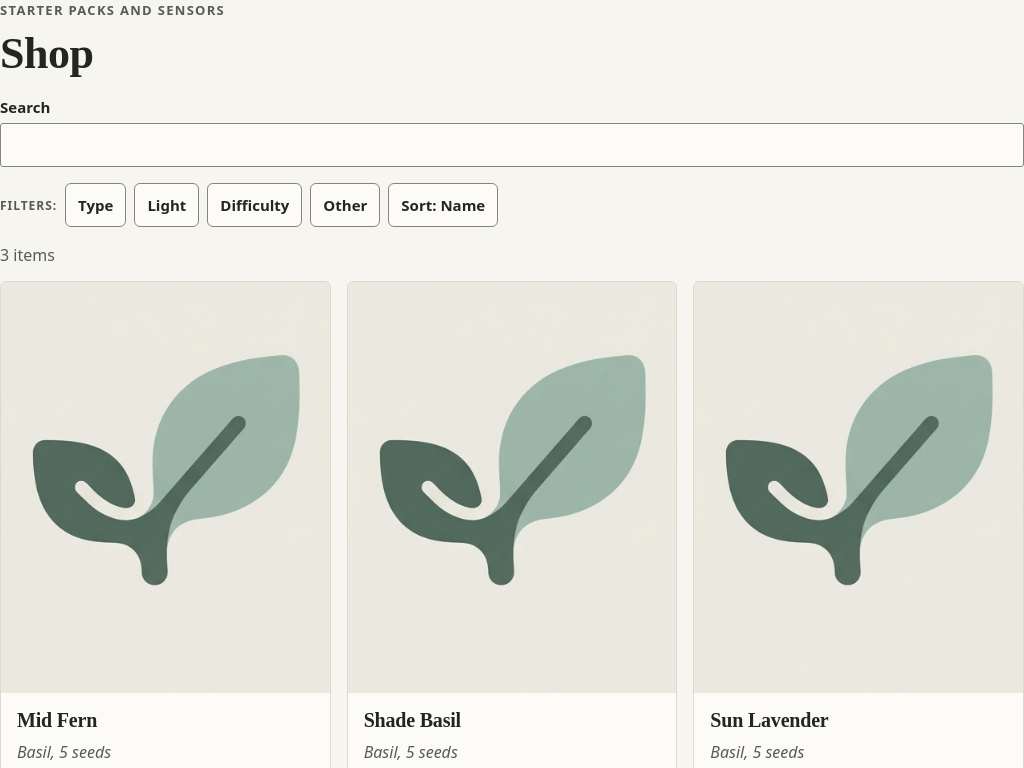
Test: CatalogPage › groups the needs into light, difficulty and other, and lets any ticked level through
Expected: the heading "Shade Basil" is shown, [364,709,461,731]
Expected: the button "Type" is shown, [65,183,126,227]
Click the button "Light": {"x": 167, "y": 205} [134,183,199,227]
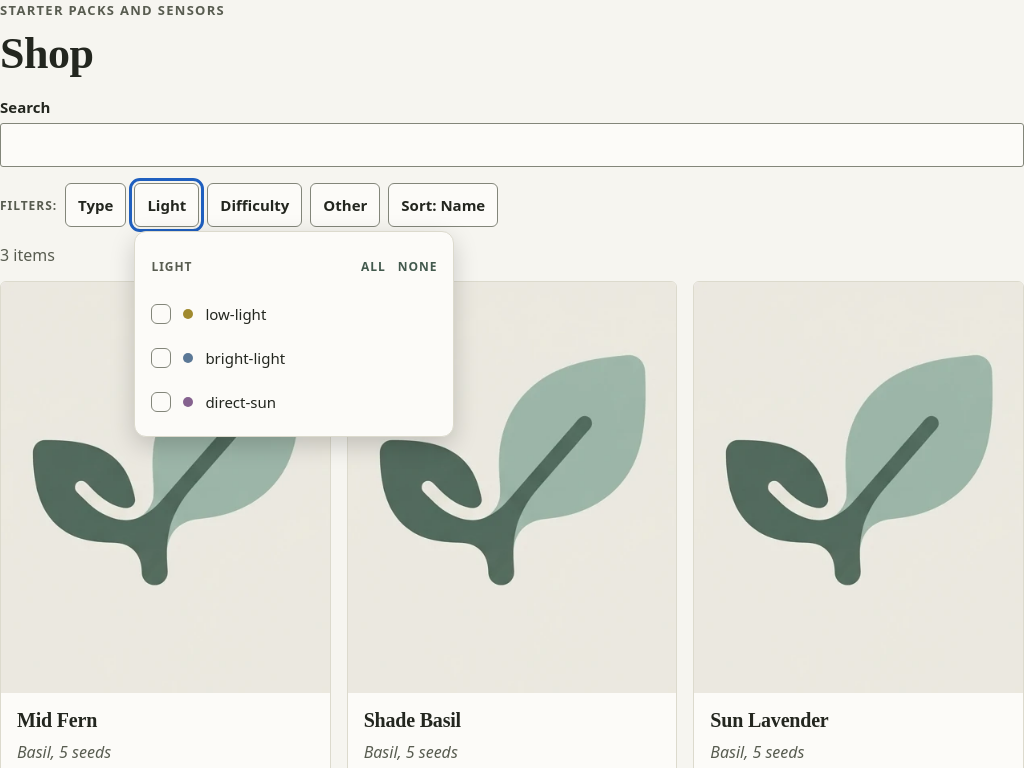
Click the checkbox labelled "low-light": {"x": 209, "y": 314} [151,304,266,324]
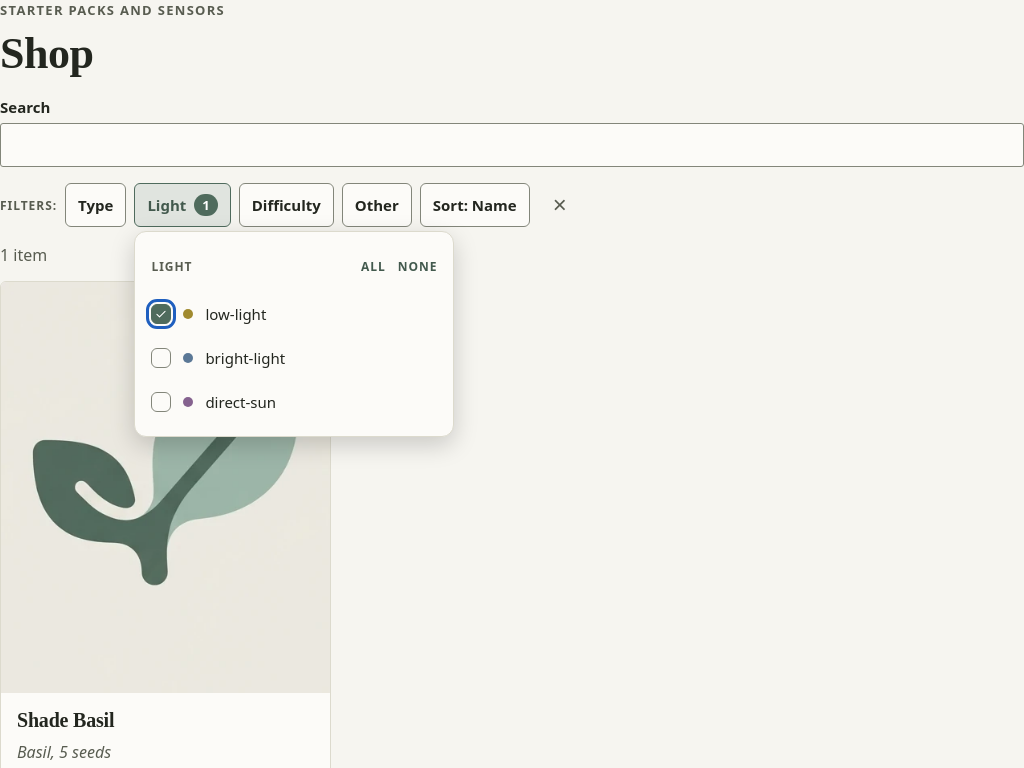
Click the checkbox labelled "direct-sun": {"x": 214, "y": 402} [151,392,276,412]
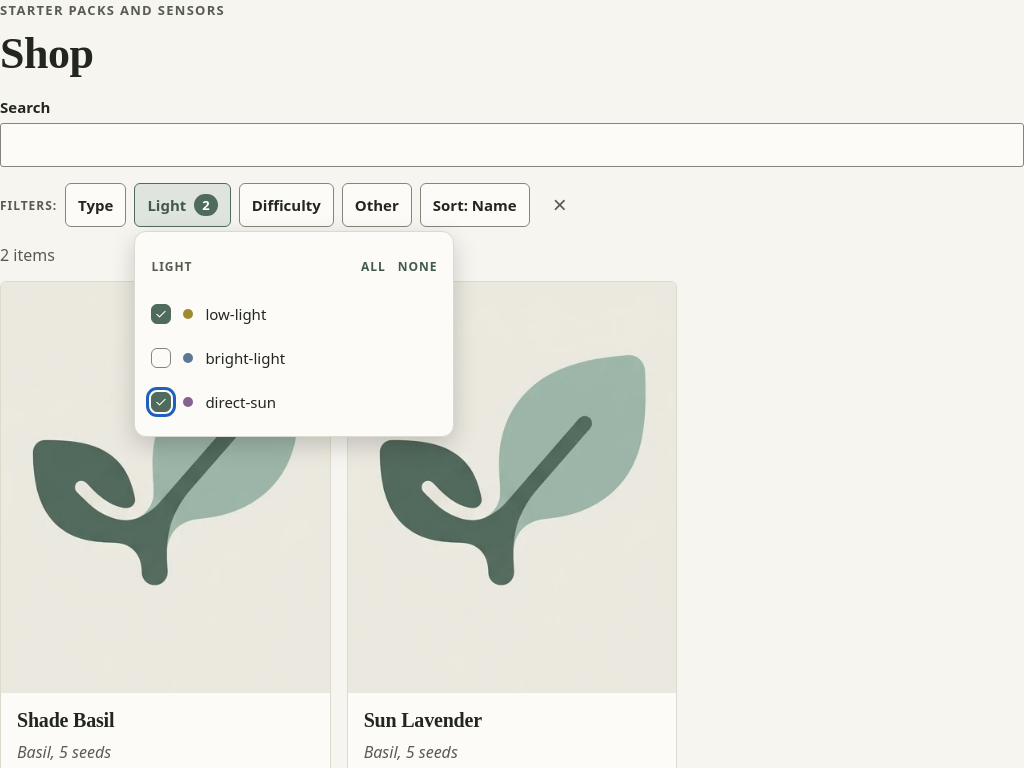
Expected: the heading "Shade Basil" is shown, [17,709,114,731]
Now the heading "Sun Lavender" is shown, box [364,709,482,731]
Now the button "Light 2" is shown, box [134,183,231,227]
